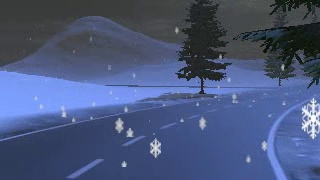Lane: (0, 86, 319, 179)
